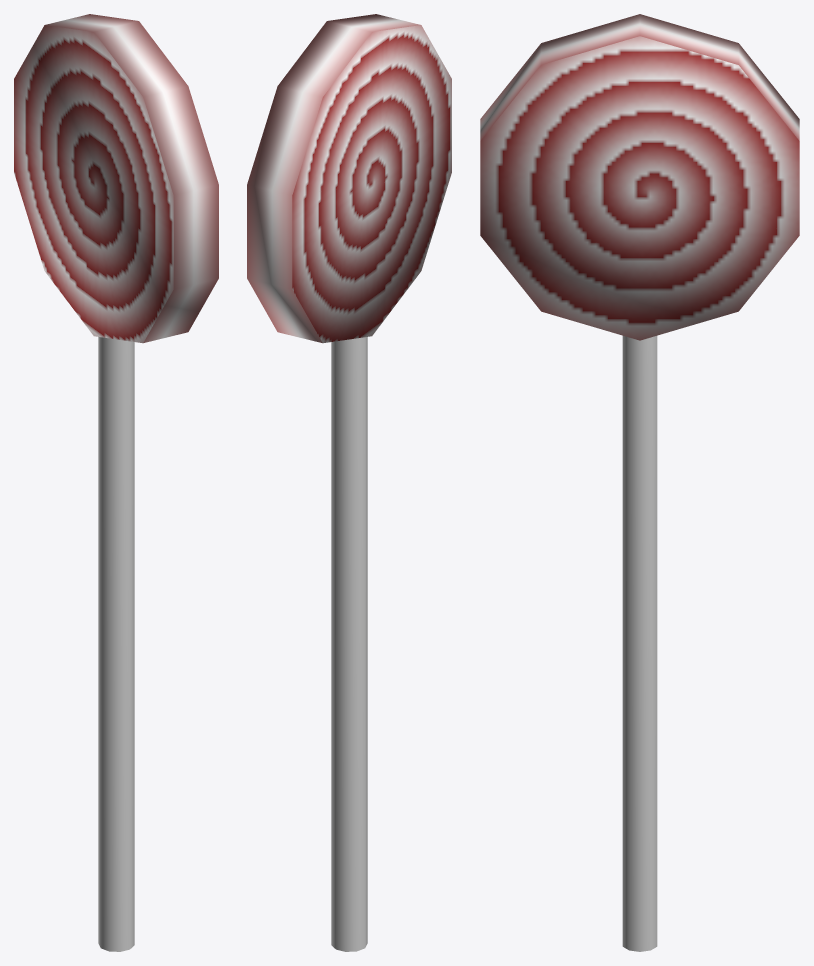
File: Lollipop.fbx
3 renders of one model, left to right at view 1: azimuth 30°, elevation 25°; view 2: azimuth 150°, elevation 25°; view 3: azimuth 270°, elevation 25°, orthographic.
Parts seen in each view (by area): view 1: pCylinder2, pCylinder1; view 2: pCylinder2, pCylinder1; view 3: pCylinder2, pCylinder1.
Part boxes in pixels (x1,y1,x2,y2): pCylinder2: [14, 14, 218, 343]; pCylinder1: [98, 337, 134, 951]; pCylinder2: [247, 14, 451, 343]; pCylinder1: [331, 337, 367, 951]; pCylinder2: [480, 14, 799, 340]; pCylinder1: [622, 336, 657, 951].
Size of the model in its own units: 0.4449 by 8.62 by 2.72.
